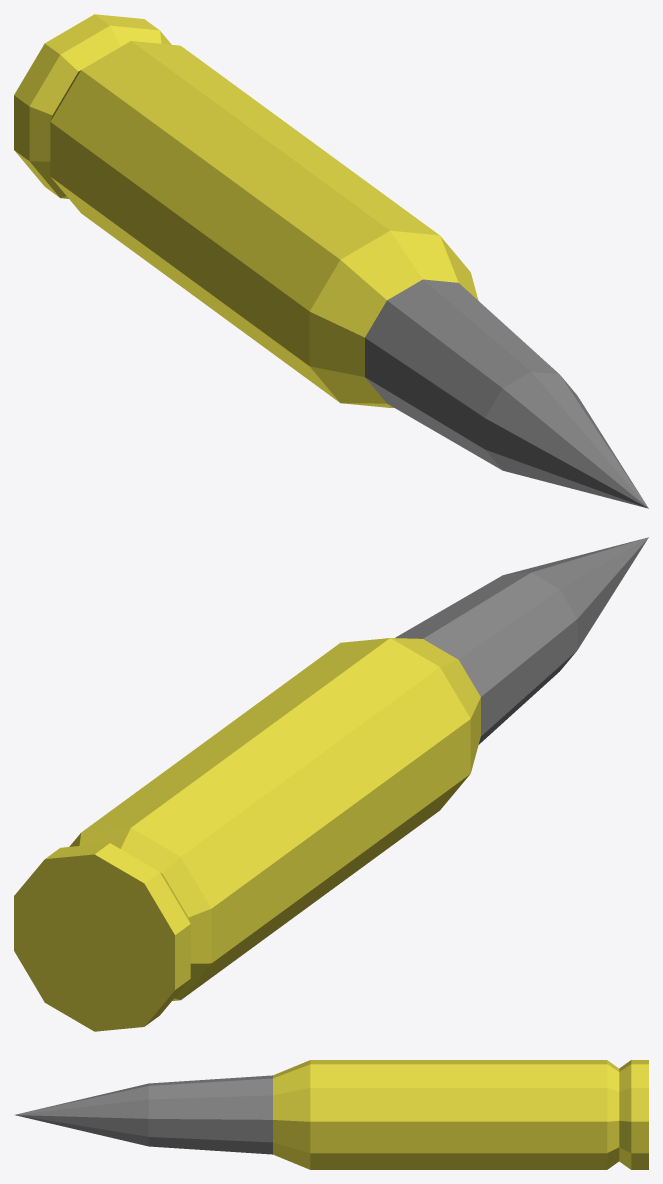
Rendered from Bullet.fbx.
The picture shows the model from 3 angles, top to bottom: view 1: azimuth 30°, elevation 25°; view 2: azimuth 150°, elevation 25°; view 3: azimuth 270°, elevation 25°; orthographic projection. The views are drawn at different scales.
Parts seen in each view (by area): view 1: Bullet; view 2: Bullet; view 3: Bullet.
Part boxes in pixels (box(x1,y1,x2,y2)): Bullet: box(14, 14, 648, 508); Bullet: box(14, 537, 648, 1031); Bullet: box(15, 1060, 648, 1169).
Size of the model in its own units: 2.56 by 2.69 by 15.24.
